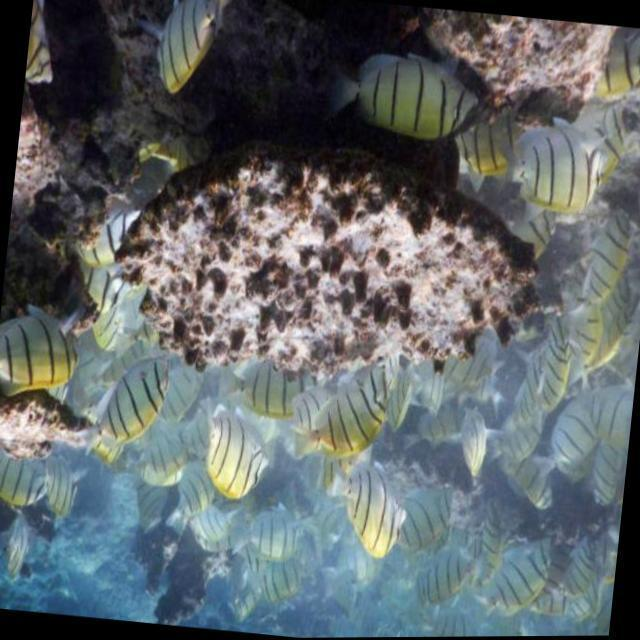Dead Coral: (59, 71, 576, 447)
